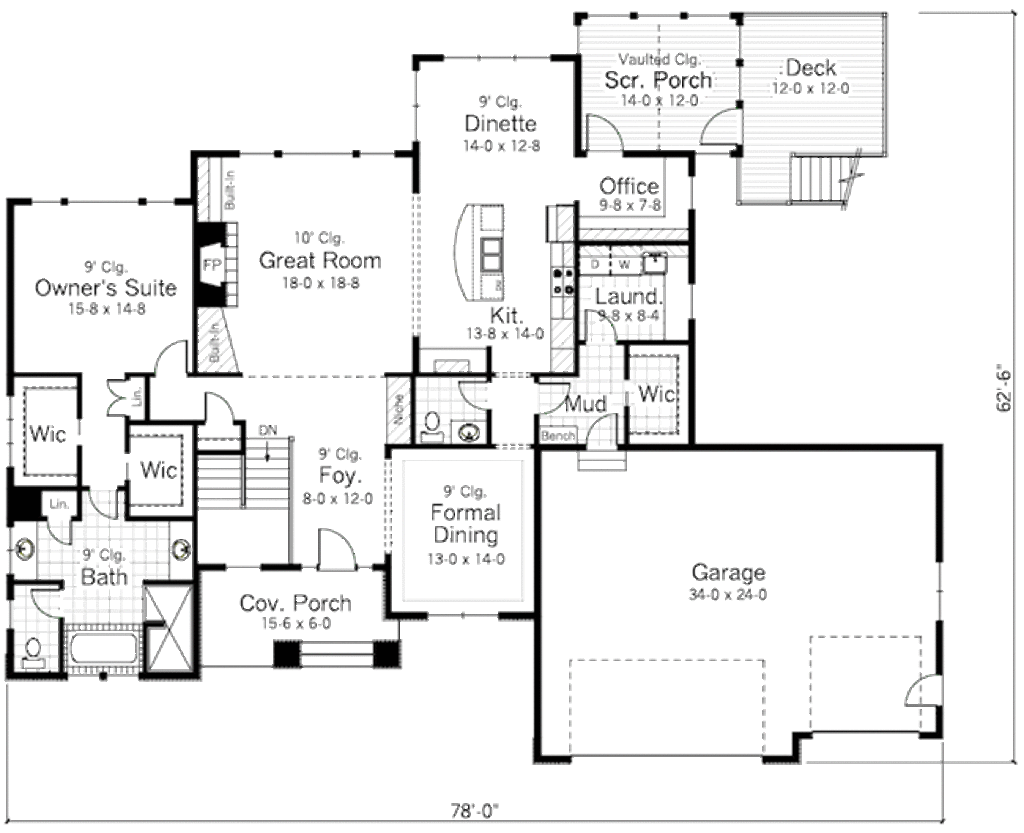door: (308, 525, 370, 573), (690, 101, 747, 149), (579, 103, 628, 156), (99, 374, 155, 417), (578, 308, 631, 348), (145, 340, 197, 379), (194, 396, 246, 434), (79, 487, 131, 525), (517, 374, 569, 411), (30, 586, 73, 621), (42, 517, 85, 549), (583, 410, 623, 443), (456, 381, 494, 412)
kitchen_bar: (454, 192, 523, 319)
large_sink: (20, 632, 51, 675), (420, 412, 445, 445)
small_sink: (3, 508, 40, 584), (165, 517, 197, 575), (452, 416, 489, 445)
stairs: (193, 439, 301, 568), (739, 149, 879, 211)
tub: (63, 627, 150, 683)
twin_sink: (474, 238, 512, 282)
